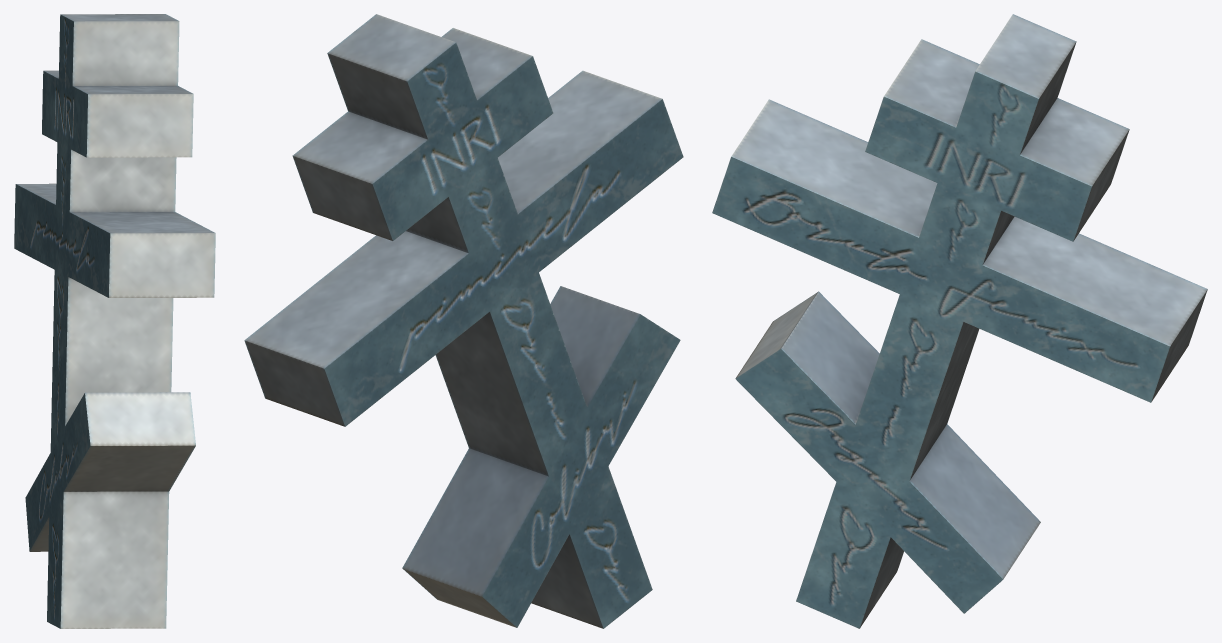
3 renders of one model, left to right at view 1: azimuth 30°, elevation 25°; view 2: azimuth 150°, elevation 25°; view 3: azimuth 270°, elevation 25°, orthographic. The views are drawn at different scales.
Visible parts, largest first — view 1: Cruz_Orto_Cube.011; view 2: Cruz_Orto_Cube.011; view 3: Cruz_Orto_Cube.011.
Part boxes in pixels (bbox=[...]): Cruz_Orto_Cube.011: bbox=[14, 14, 215, 628]; Cruz_Orto_Cube.011: bbox=[244, 14, 683, 628]; Cruz_Orto_Cube.011: bbox=[712, 14, 1207, 628].
Size of the model in its own units: 1.09 by 2.69 by 1.98.
